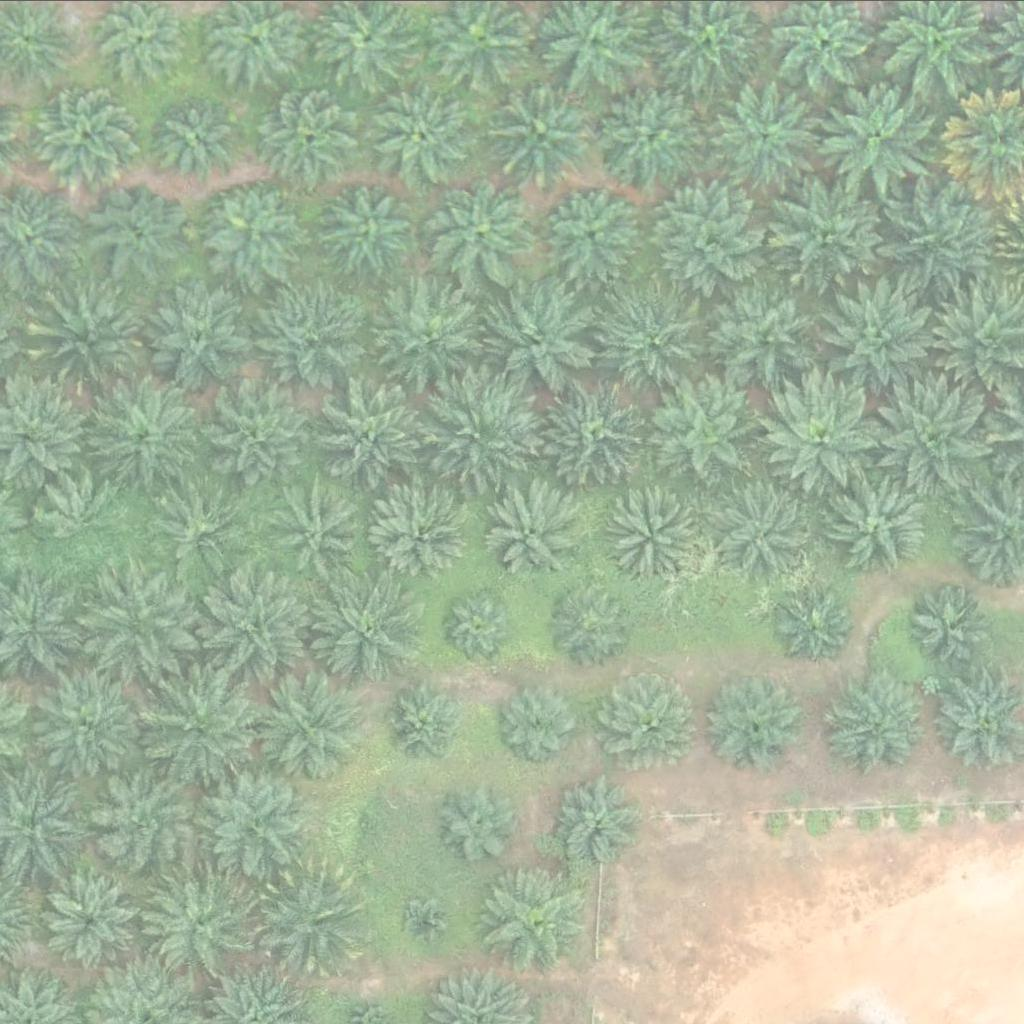Kelapa_Sawit: (301, 572, 415, 685), (32, 669, 146, 782), (142, 672, 256, 785), (28, 76, 141, 189), (141, 277, 254, 390), (251, 281, 364, 394), (88, 381, 201, 494), (205, 375, 318, 488), (252, 667, 365, 780), (92, 765, 205, 878), (423, 373, 536, 486), (540, 372, 653, 485), (371, 276, 484, 389), (485, 279, 598, 392), (596, 285, 709, 398), (711, 277, 824, 390), (651, 177, 764, 290), (765, 174, 878, 287), (883, 175, 996, 288), (316, 376, 430, 488), (82, 569, 196, 681), (199, 567, 313, 679), (477, 863, 591, 975), (880, 378, 994, 490), (253, 864, 366, 976), (36, 281, 149, 393), (199, 761, 312, 873), (143, 866, 256, 978), (649, 378, 762, 490), (770, 379, 883, 491), (822, 276, 935, 388), (425, 173, 538, 285), (364, 78, 477, 190), (491, 71, 604, 183), (597, 78, 710, 190), (716, 78, 829, 190), (822, 81, 935, 193), (259, 84, 360, 184), (92, 179, 193, 279), (202, 178, 303, 278), (316, 181, 417, 281), (40, 869, 141, 969), (824, 677, 925, 777), (373, 485, 474, 585), (485, 479, 586, 579), (603, 484, 704, 584), (542, 179, 643, 279), (149, 481, 249, 581), (268, 477, 368, 577), (598, 667, 698, 767), (705, 672, 805, 772), (717, 474, 817, 574), (830, 472, 930, 572), (154, 92, 242, 180), (39, 476, 127, 564), (550, 770, 638, 858), (435, 777, 523, 864), (385, 678, 473, 765), (494, 681, 582, 768), (549, 579, 637, 666), (905, 581, 993, 668), (777, 586, 853, 661), (441, 588, 516, 663), (399, 896, 450, 946), (336, 799, 386, 849)
